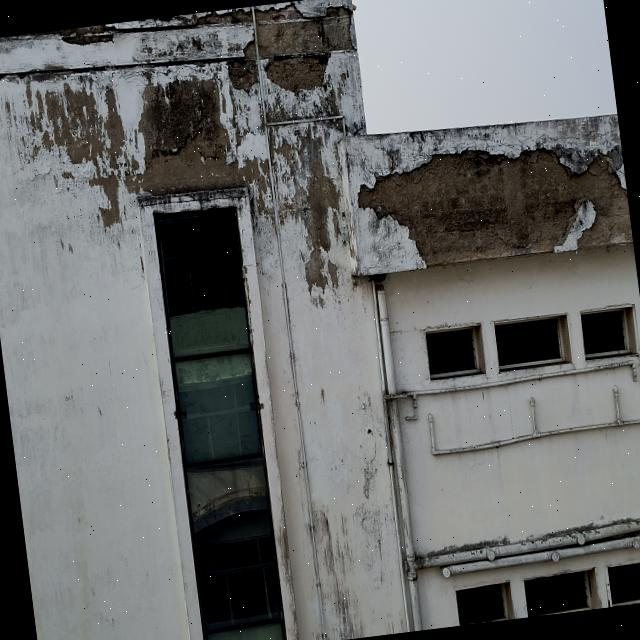Paint Peeling: (254, 0, 633, 289), (0, 6, 273, 227)
